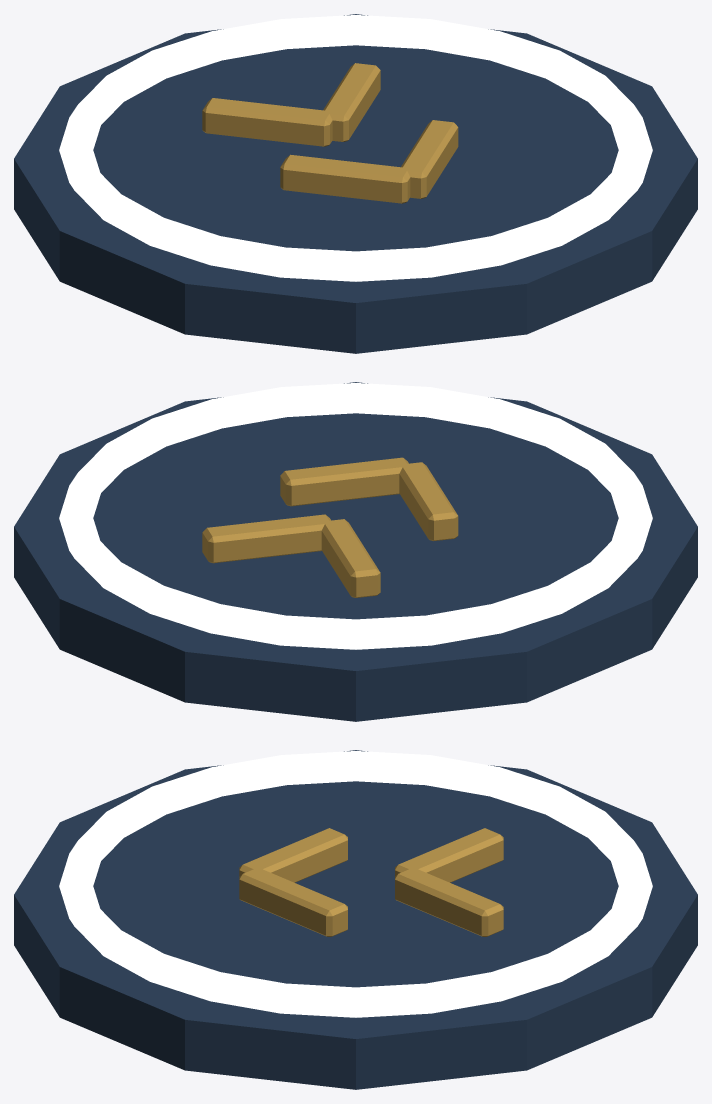
File: props-jump-pad.lod0.glb
3 renders of one model, top to bottom at view 1: azimuth 30°, elevation 25°; view 2: azimuth 150°, elevation 25°; view 3: azimuth 270°, elevation 25°, orthographic.
Parts seen in each view (by area): view 1: props-jump-pad__body; view 2: props-jump-pad__body; view 3: props-jump-pad__body.
Part boxes in pixels (x1,y1,x2,y2): props-jump-pad__body: (14,14,697,353); props-jump-pad__body: (14,382,697,721); props-jump-pad__body: (14,750,697,1089).
Size of the model in its own units: 2.2 by 0.27 by 2.2.
